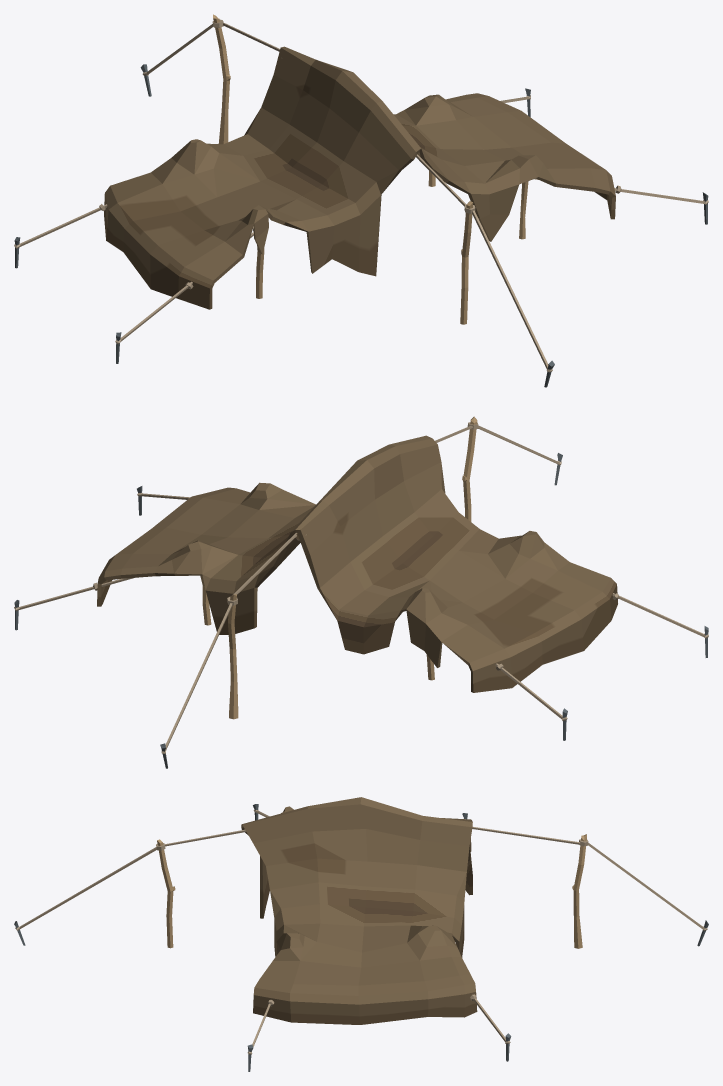
The model's file is SM_Bld_Tent_Desert_01.fbx.
3 renders of one model, top to bottom at view 1: azimuth 30°, elevation 25°; view 2: azimuth 150°, elevation 25°; view 3: azimuth 270°, elevation 25°, orthographic. The views are drawn at different scales.
Parts seen in each view (by area): view 1: SM_Bld_Tent_Desert_01; view 2: SM_Bld_Tent_Desert_01; view 3: SM_Bld_Tent_Desert_01.
Part boxes in pixels (left/top/right/bottom): SM_Bld_Tent_Desert_01: left=14, top=14, right=708, bottom=387; SM_Bld_Tent_Desert_01: left=14, top=416, right=708, bottom=768; SM_Bld_Tent_Desert_01: left=14, top=797, right=708, bottom=1071.
Bounding box in the file's own units: 802 × 231 × 965.
